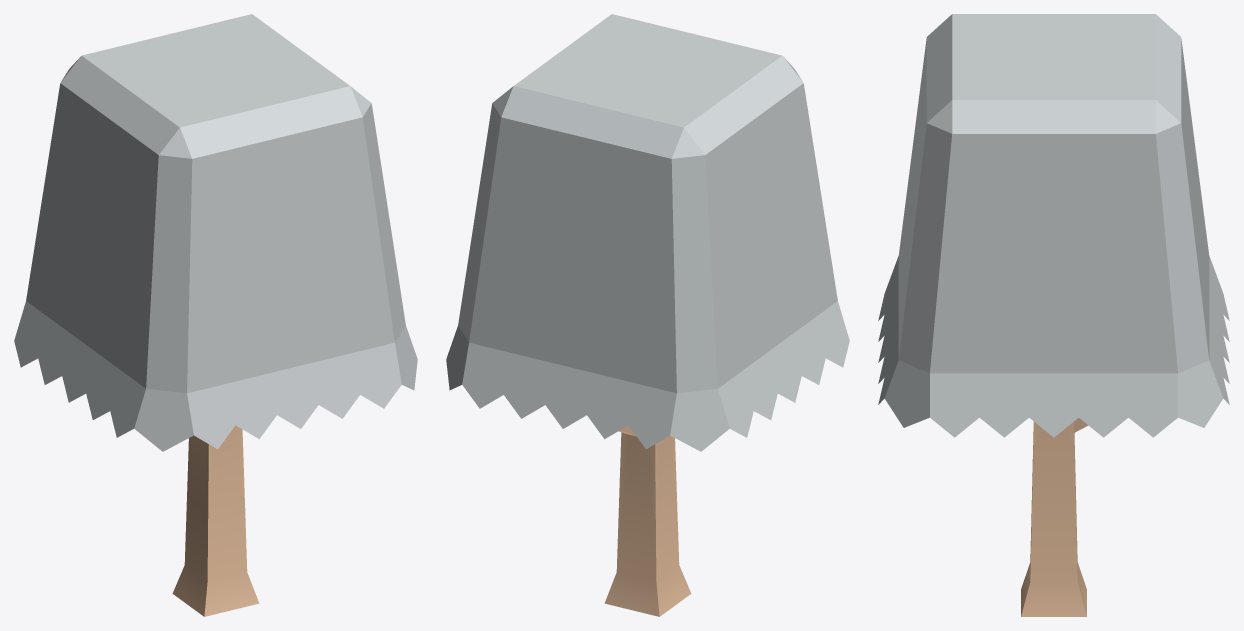
The picture shows the model from 3 angles, left to right: view 1: azimuth 30°, elevation 25°; view 2: azimuth 150°, elevation 25°; view 3: azimuth 270°, elevation 25°; orthographic projection. The views are drawn at different scales.
Parts seen in each view (by area): view 1: treeSnow; view 2: treeSnow; view 3: treeSnow.
Boxes of the visible parts, left/top/right/bottom form: treeSnow: left=14, top=14, right=417, bottom=616; treeSnow: left=446, top=14, right=849, bottom=616; treeSnow: left=878, top=14, right=1229, bottom=616.
Bounding box in the file's own units: 1.13 × 1.94 × 1.13.
